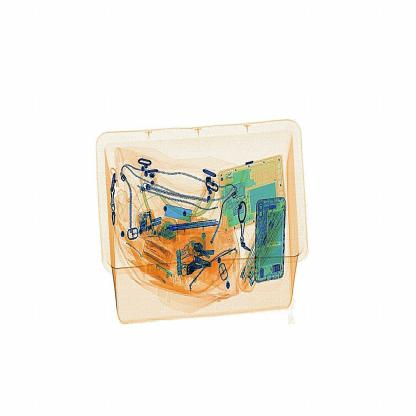pliers: (166, 212, 226, 238)
